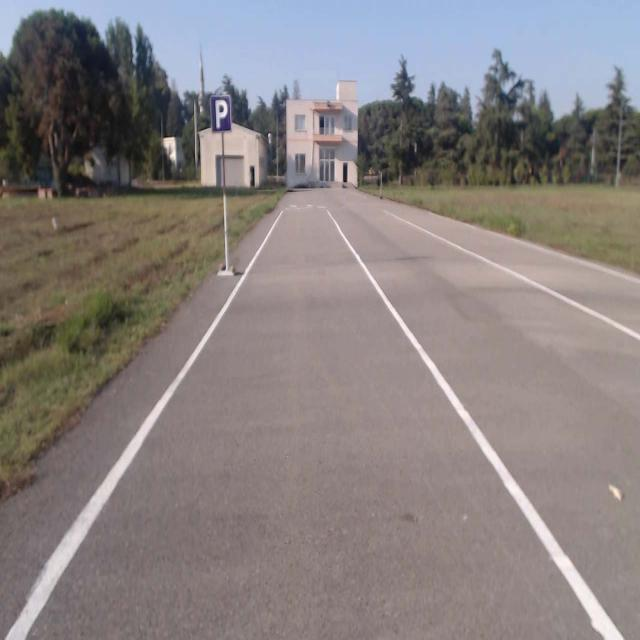park: (210, 96, 232, 133)
